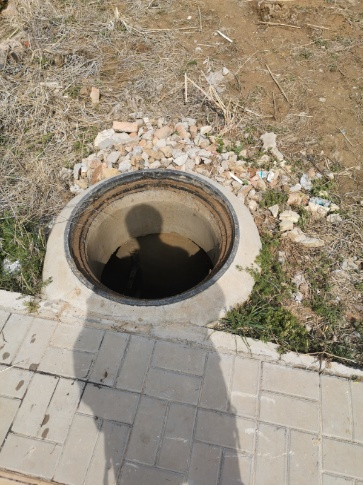lose: (63, 168, 240, 309)
